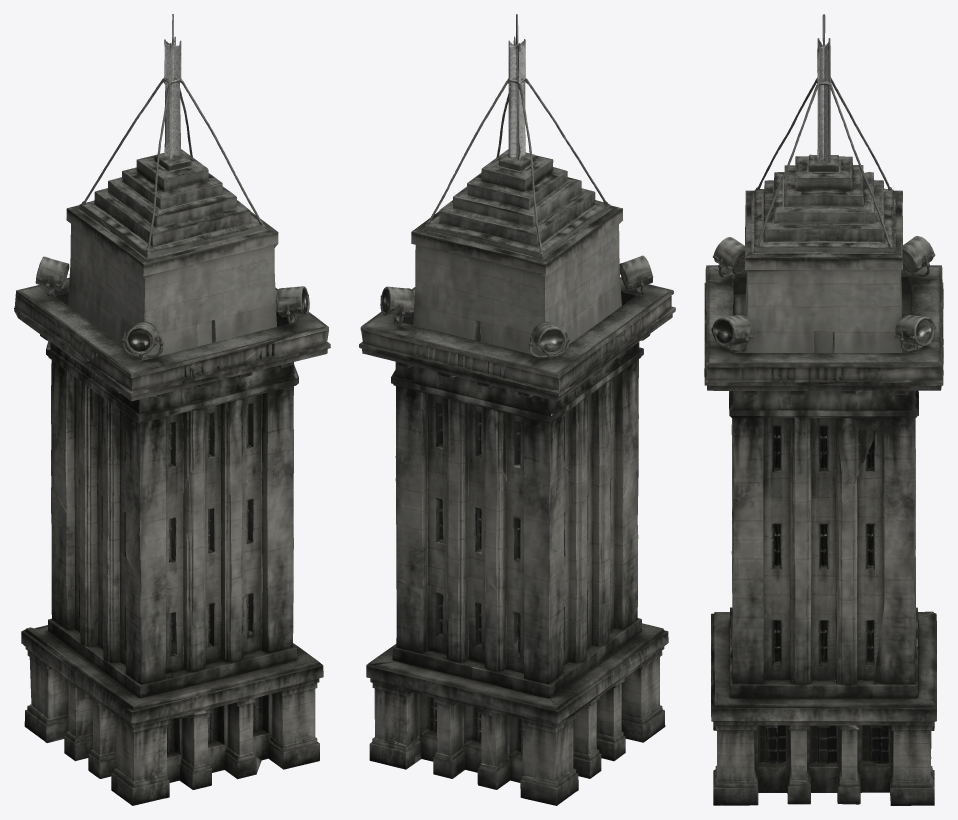
Rendered from gauturm__b.glb.
3 renders of one model, left to right at view 1: azimuth 30°, elevation 25°; view 2: azimuth 150°, elevation 25°; view 3: azimuth 270°, elevation 25°, orthographic. The views are drawn at different scales.
Bounding box in the file's own units: 0.5471 × 1.9 × 0.553.
Materials: 1 (1 with a texture image).
